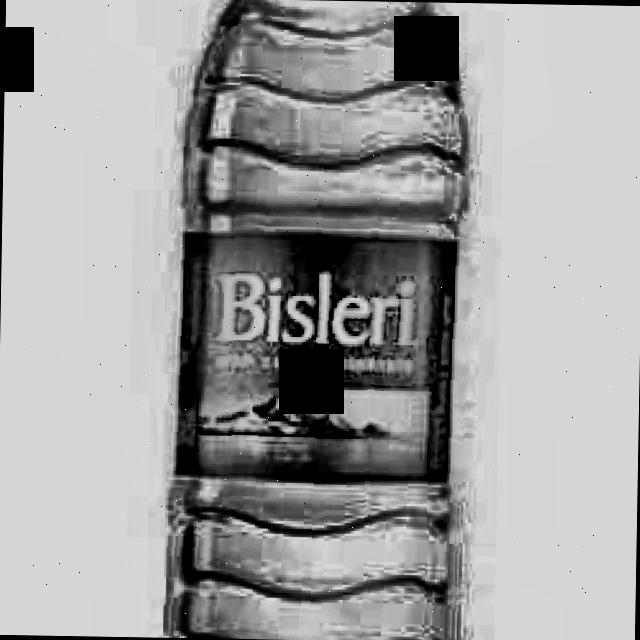bottle: (162, 0, 468, 640)
